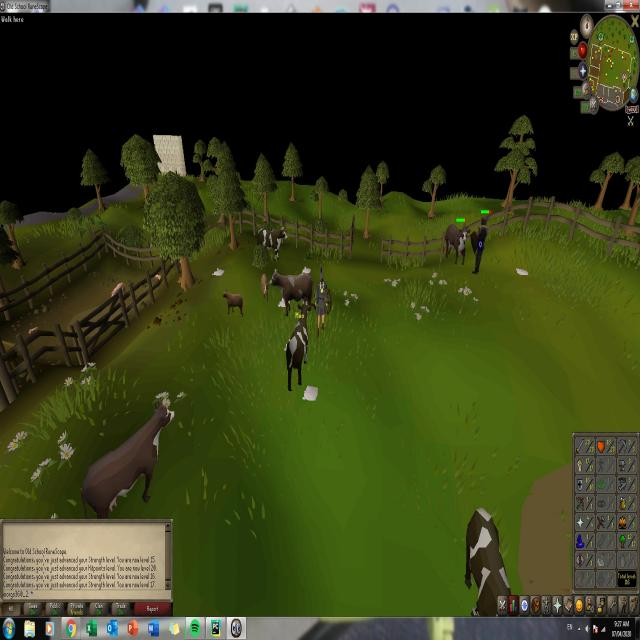cow: (81, 399, 173, 515), (463, 498, 514, 592), (286, 297, 312, 392), (269, 266, 316, 315), (255, 223, 288, 264), (444, 219, 471, 268), (219, 290, 245, 317), (258, 267, 270, 301)
player: (314, 265, 327, 336)
